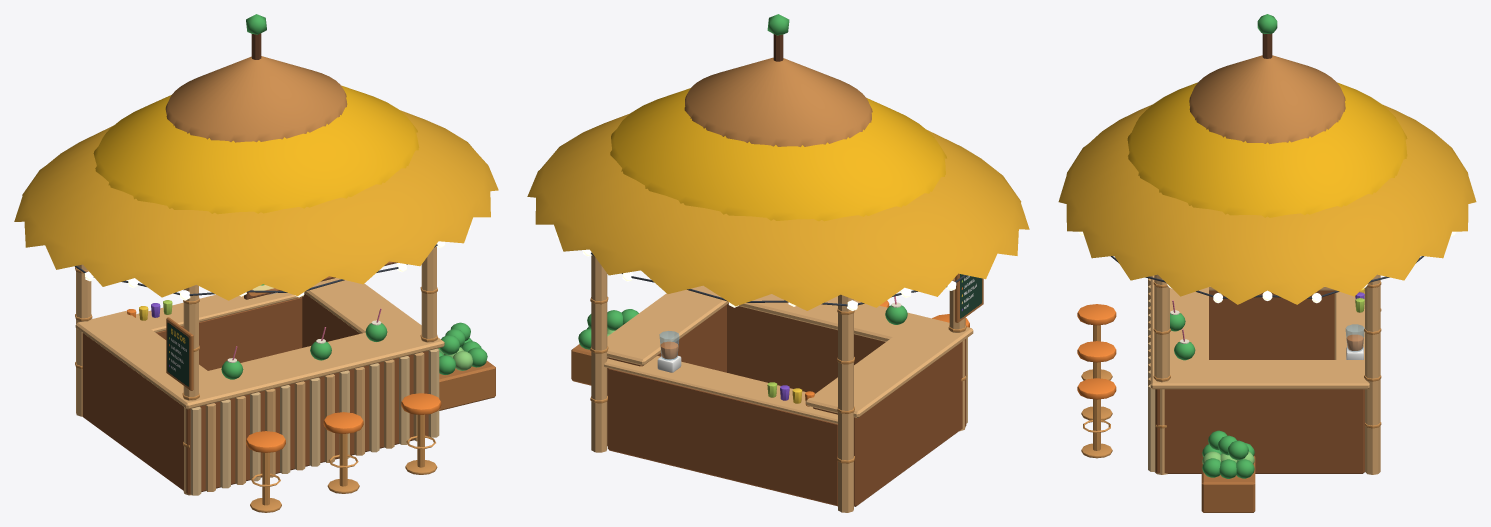
The model's file is quiosque_coco_palha.glb.
The picture shows the model from 3 angles, left to right: view 1: azimuth 30°, elevation 25°; view 2: azimuth 150°, elevation 25°; view 3: azimuth 270°, elevation 25°; orthographic projection. The views are drawn at different scales.
Visible parts, largest first — view 1: quiosque_coco_palha; view 2: quiosque_coco_palha; view 3: quiosque_coco_palha.
Part boxes in pixels (x1=…): quiosque_coco_palha: x1=14, y1=14, x2=498, y2=512; quiosque_coco_palha: x1=527, y1=14, x2=1029, y2=512; quiosque_coco_palha: x1=1058, y1=14, x2=1476, y2=512.
Bounding box in the file's own units: 5 × 4.54 × 4.29.
Materials: 5 (3 with a texture image).
